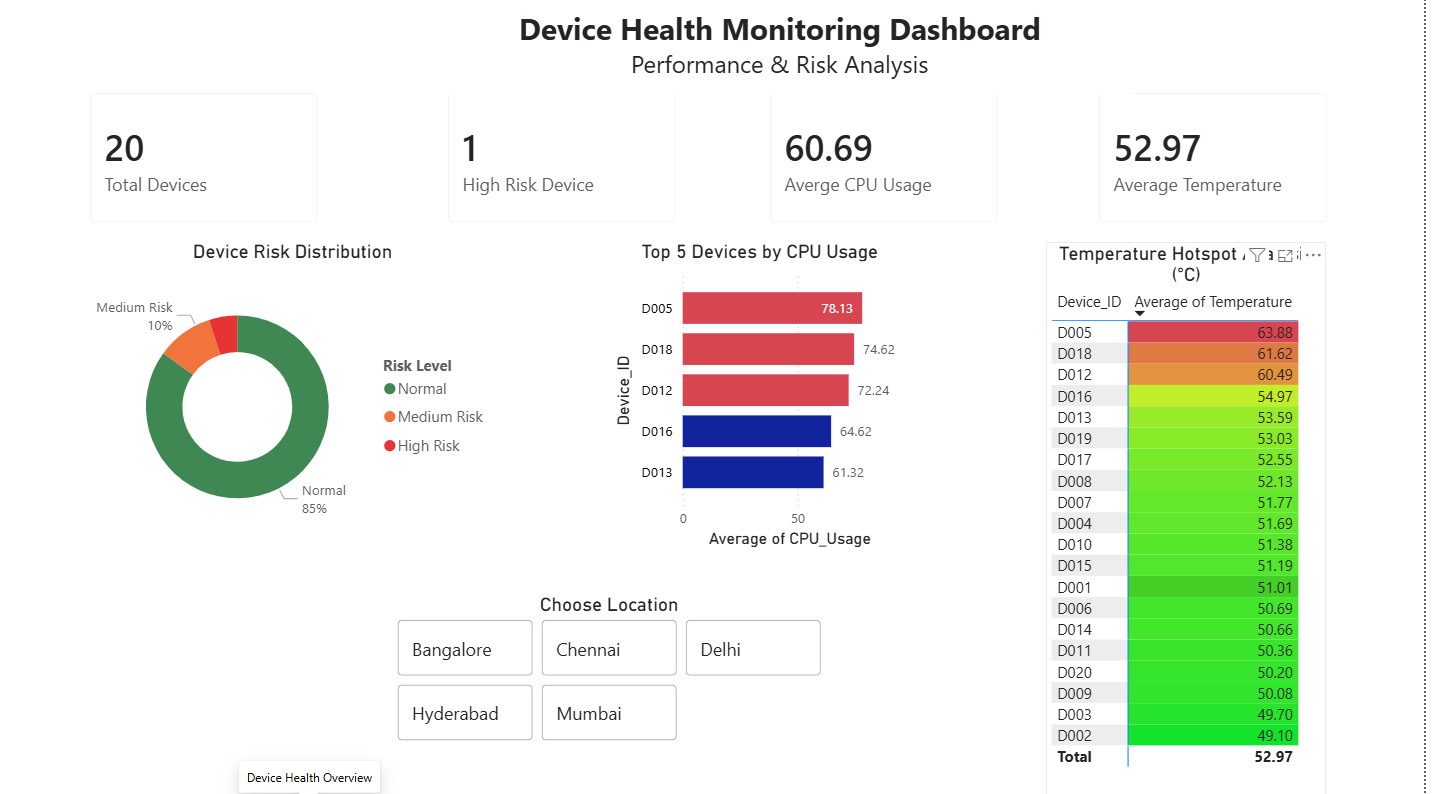

The dashboard page shown, as its layout file describes it:
{"tool":"powerbi","page":{"name":"Device Health Overview","canvas":[1280,720],"ordinal":1},"visuals":[{"type":"clusteredBarChart","title":"Top 5 Devices by CPU Usage","fields":{"Category":["cleaned_device_health_logs.Device_ID"],"Y":["Avg(cleaned_device_health_logs.CPU_Usage)"]},"box":[551,220,270,280],"z":0},{"type":"pivotTable","title":"Temperature Hotspot Analysis (°C)","fields":{"Values":["Avg(cleaned_device_health_logs.Temperature)"],"Rows":["cleaned_device_health_logs.Device_ID"]},"box":[942,222,251,498],"z":0},{"type":"advancedSlicerVisual","title":"Choose Location","fields":{"Values":["clean_device_info.Location"]},"box":[356,536,389,138],"z":1000},{"type":"group","id":"g1","title":"Group 1","box":[69,72,1142,150],"z":2000},{"type":"donutChart","title":"Device Risk Distribution","fields":{"Category":["Device Risk Table.Risk Level"],"Y":["CountNonNull(Device Risk Table.Device_ID)"]},"box":[82,220,370,280],"z":3000},{"type":"textbox","box":[389,7,630,83],"z":3001},{"type":"cardVisual","fields":{"Data":["Measure Table.Total Devices"]},"box":[69,72.3,238.9,150],"z":4000,"group":"g1"},{"type":"cardVisual","fields":{"Data":["Measure Table.High Risk Devices"]},"box":[390,72,238.9,150],"z":5000,"group":"g1"},{"type":"cardVisual","fields":{"Data":["Measure Table.Avg CPU"]},"box":[678.3,72,238.9,150],"z":6000,"group":"g1"},{"type":"cardVisual","fields":{"Data":["Measure Table.Avg Temp"]},"box":[972.6,72,238.9,150],"z":7000,"group":"g1"}]}

Visuals, with their boxes in screenshot pixels (x1, y1, x2, y2), scaled from the page's 1280x720 canvas onto the 1441x794 screenshot:
"Top 5 Devices by CPU Usage" clusteredBarChart: bbox=(620, 243, 924, 551)
"Temperature Hotspot Analysis (°C)" pivotTable: bbox=(1060, 245, 1343, 793)
"Choose Location" advancedSlicerVisual: bbox=(401, 591, 839, 743)
"Group 1" group: bbox=(78, 79, 1363, 245)
"Device Risk Distribution" donutChart: bbox=(92, 243, 509, 551)
textbox: bbox=(438, 8, 1147, 99)
cardVisual - Measure Table.Total Devices: bbox=(78, 80, 347, 245)
cardVisual - Measure Table.High Risk Devices: bbox=(439, 79, 708, 245)
cardVisual - Measure Table.Avg CPU: bbox=(764, 79, 1033, 245)
cardVisual - Measure Table.Avg Temp: bbox=(1095, 79, 1364, 245)
